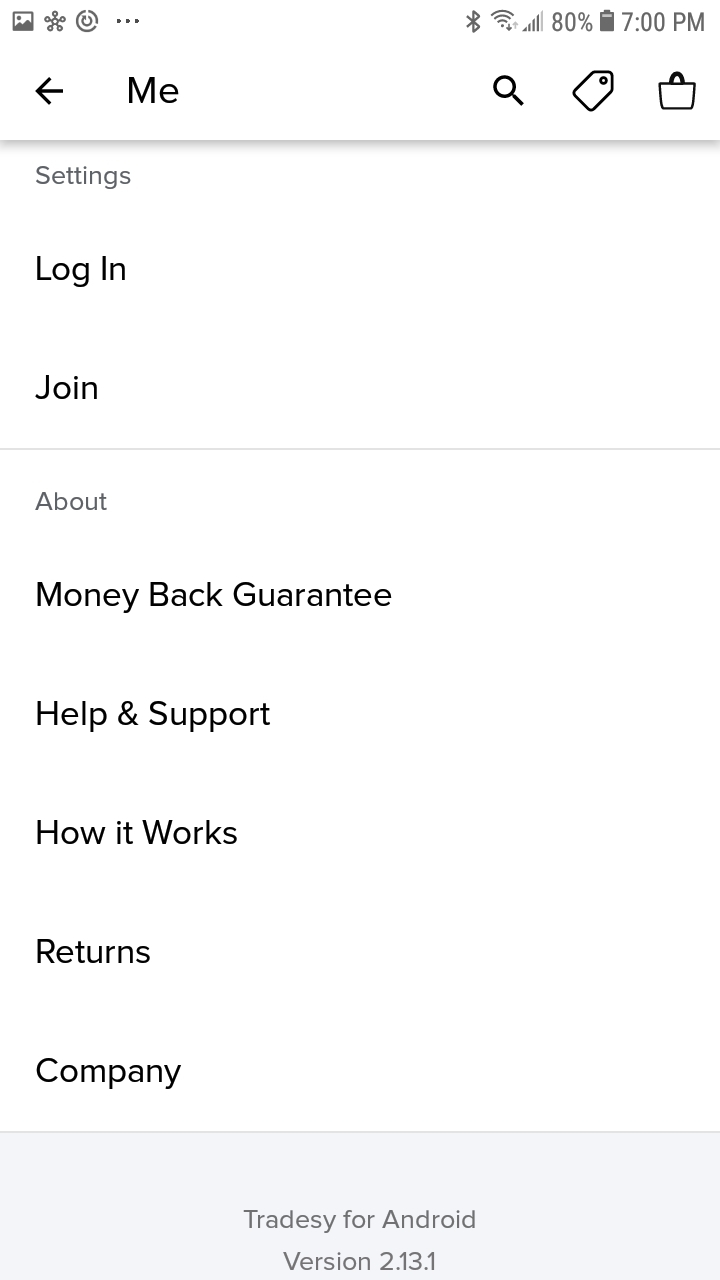Icon: (572, 70, 614, 113), (658, 71, 697, 111), (493, 75, 524, 107), (36, 78, 64, 106)
Text: (37, 582, 392, 614), (37, 701, 271, 733), (244, 1210, 476, 1234), (37, 820, 238, 845), (37, 1058, 182, 1090), (283, 1251, 436, 1272), (37, 255, 127, 288), (37, 939, 151, 964), (36, 167, 131, 191), (36, 376, 98, 401), (129, 78, 180, 105), (36, 492, 108, 511)
UpperTaskBar: (1, 1, 720, 34)
